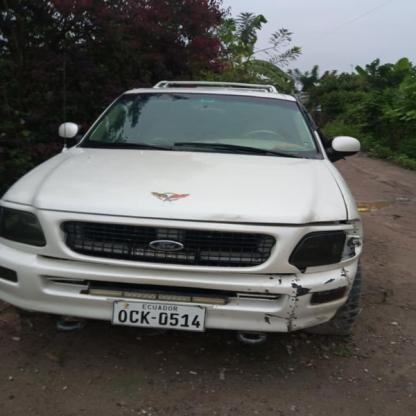Placa: (112, 298, 209, 336)
